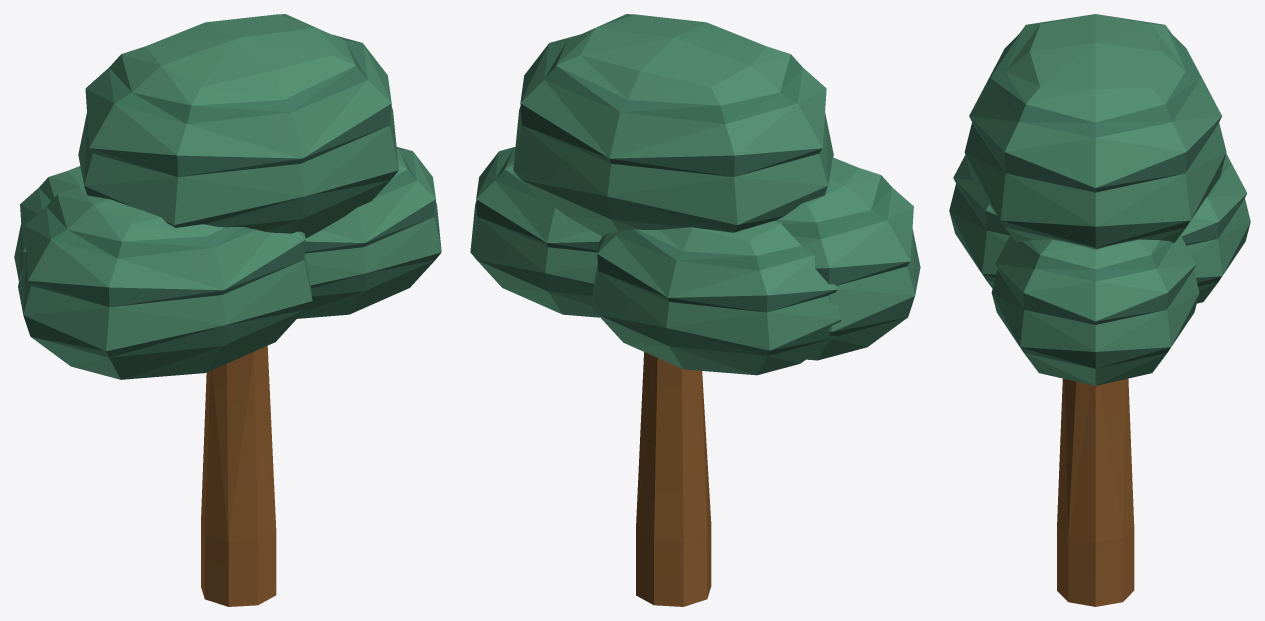
The model's file is Tree_Oak_01.fbx.
3 renders of one model, left to right at view 1: azimuth 30°, elevation 25°; view 2: azimuth 150°, elevation 25°; view 3: azimuth 270°, elevation 25°, orthographic.
Visible parts, largest first — view 1: Tree_Oak_01.005, Tree_Oak_01.003, Tree_Oak_01, Tree_Oak_01.002, Tree_Oak_01.004; view 2: Tree_Oak_01.005, Tree_Oak_01.004, Tree_Oak_01, Tree_Oak_01.003, Tree_Oak_01.002; view 3: Tree_Oak_01.005, Tree_Oak_01.002, Tree_Oak_01, Tree_Oak_01.004, Tree_Oak_01.003.
Boxes of the visible parts, left/top/right/bottom form: Tree_Oak_01.005: left=78, top=14, right=398, bottom=238; Tree_Oak_01.003: left=18, top=185, right=312, bottom=379; Tree_Oak_01: left=201, top=346, right=276, bottom=606; Tree_Oak_01.002: left=297, top=147, right=441, bottom=318; Tree_Oak_01.004: left=14, top=166, right=83, bottom=283; Tree_Oak_01.005: left=513, top=14, right=833, bottom=236; Tree_Oak_01.004: left=591, top=221, right=841, bottom=375; Tree_Oak_01: left=636, top=352, right=711, bottom=606; Tree_Oak_01.003: left=775, top=157, right=920, bottom=360; Tree_Oak_01.002: left=470, top=147, right=602, bottom=317; Tree_Oak_01.005: left=964, top=14, right=1226, bottom=249; Tree_Oak_01.002: left=991, top=235, right=1199, bottom=385; Tree_Oak_01: left=1057, top=378, right=1134, bottom=606; Tree_Oak_01.004: left=1181, top=153, right=1250, bottom=303; Tree_Oak_01.003: left=949, top=155, right=1010, bottom=288.
Size of the model in its own units: 6.65 by 8.23 by 4.11.
